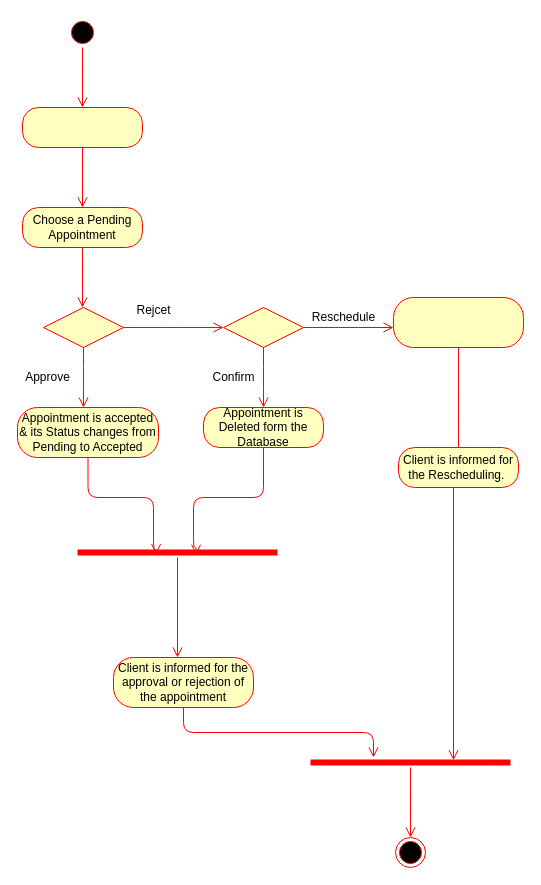
Image size: 541x885. Some labels were removed from this diagram. The shapes that lost their labels are listed below. From the top down, each one's centre as x and y in pixels, then its label:
At [82,127]: "Go to Dashboard/ Booking Calendar".
At [458,322]: "Fill in the information for the rescheduled Appointment".
